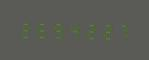four: (65, 19, 80, 40)
nine: (49, 19, 64, 39)
seven: (113, 20, 128, 40)
six: (33, 19, 48, 39)
two: (17, 19, 32, 39), (81, 20, 96, 40), (97, 20, 112, 40)
